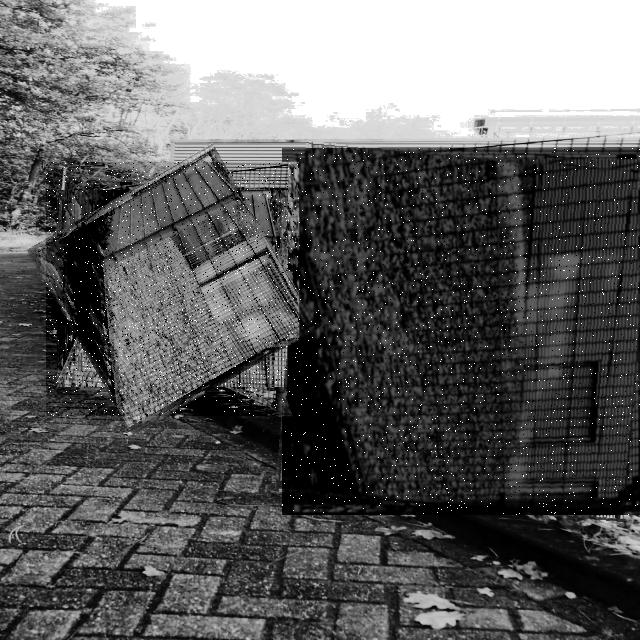fences: (282, 148, 640, 515), (46, 162, 299, 416)
